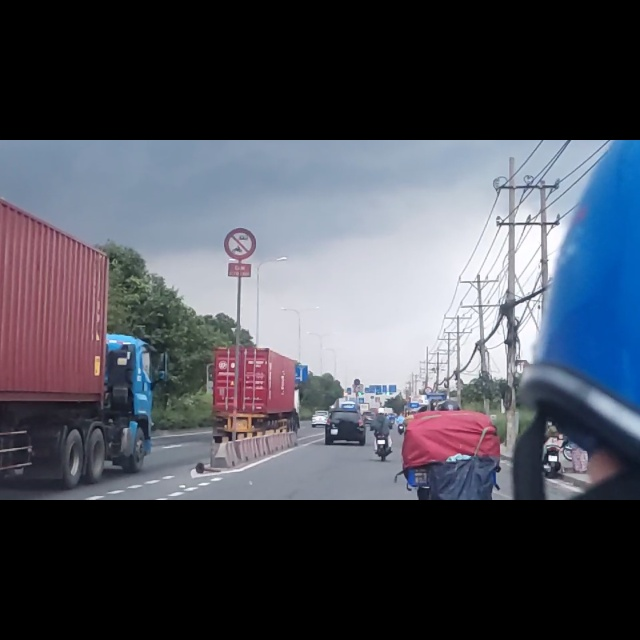bien_cam: (223, 156, 257, 213)
